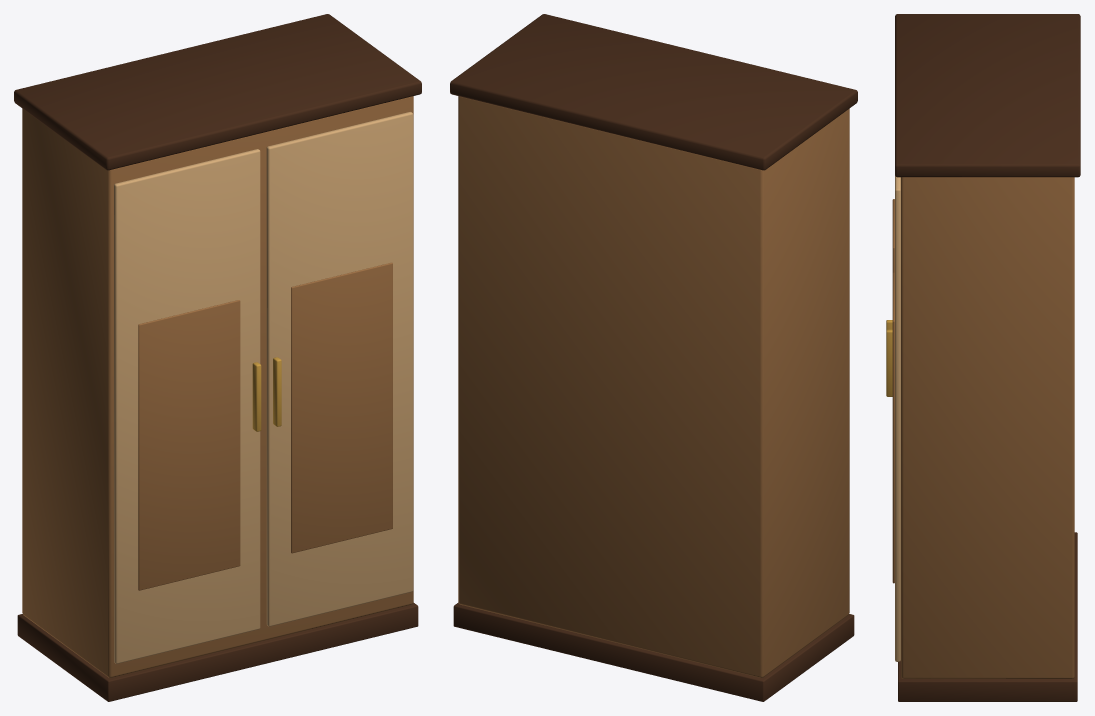
The model's file is Wardrobe_2Door.glb.
The picture shows the model from 3 angles, left to right: view 1: azimuth 30°, elevation 25°; view 2: azimuth 150°, elevation 25°; view 3: azimuth 270°, elevation 25°; orthographic projection.
Parts seen in each view (by area): view 1: Wardrobe_2Door; view 2: Wardrobe_2Door; view 3: Wardrobe_2Door.
Boxes of the visible parts, x1=… form: Wardrobe_2Door: x1=14, y1=14, x2=421, y2=701; Wardrobe_2Door: x1=450, y1=14, x2=857, y2=701; Wardrobe_2Door: x1=886, y1=14, x2=1080, y2=701.
Size of the model in its own units: 1.24 by 2.05 by 0.67.
